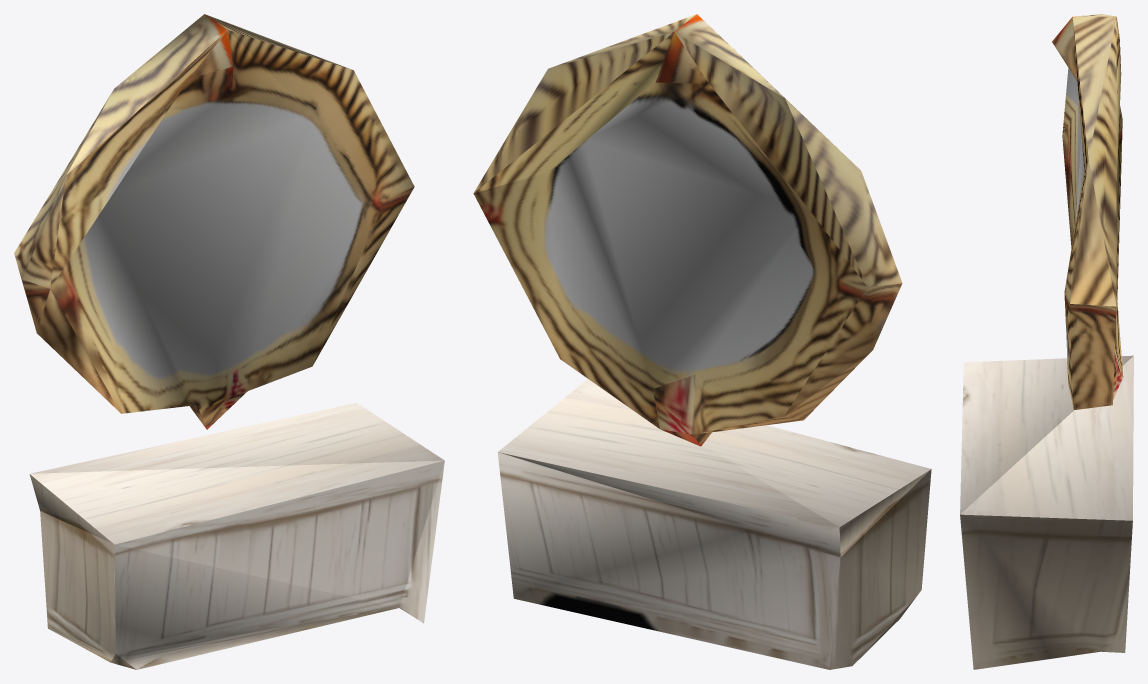
The model's file is beachhut-round-mirror.glb.
3 views of the same model, side by side, from view 1: azimuth 30°, elevation 25°; view 2: azimuth 150°, elevation 25°; view 3: azimuth 270°, elevation 25° (orthographic). The views are drawn at different scales.
Parts seen in each view (by area): view 1: geometry_0; view 2: geometry_0; view 3: geometry_0.
Part boxes in pixels (x1,y1,x2,y2): geometry_0: (14, 14, 444, 669); geometry_0: (473, 14, 931, 669); geometry_0: (960, 14, 1133, 669).
Size of the model in its own units: 0.6893 by 0.9958 by 0.2692.
1 material, 1 textured.
